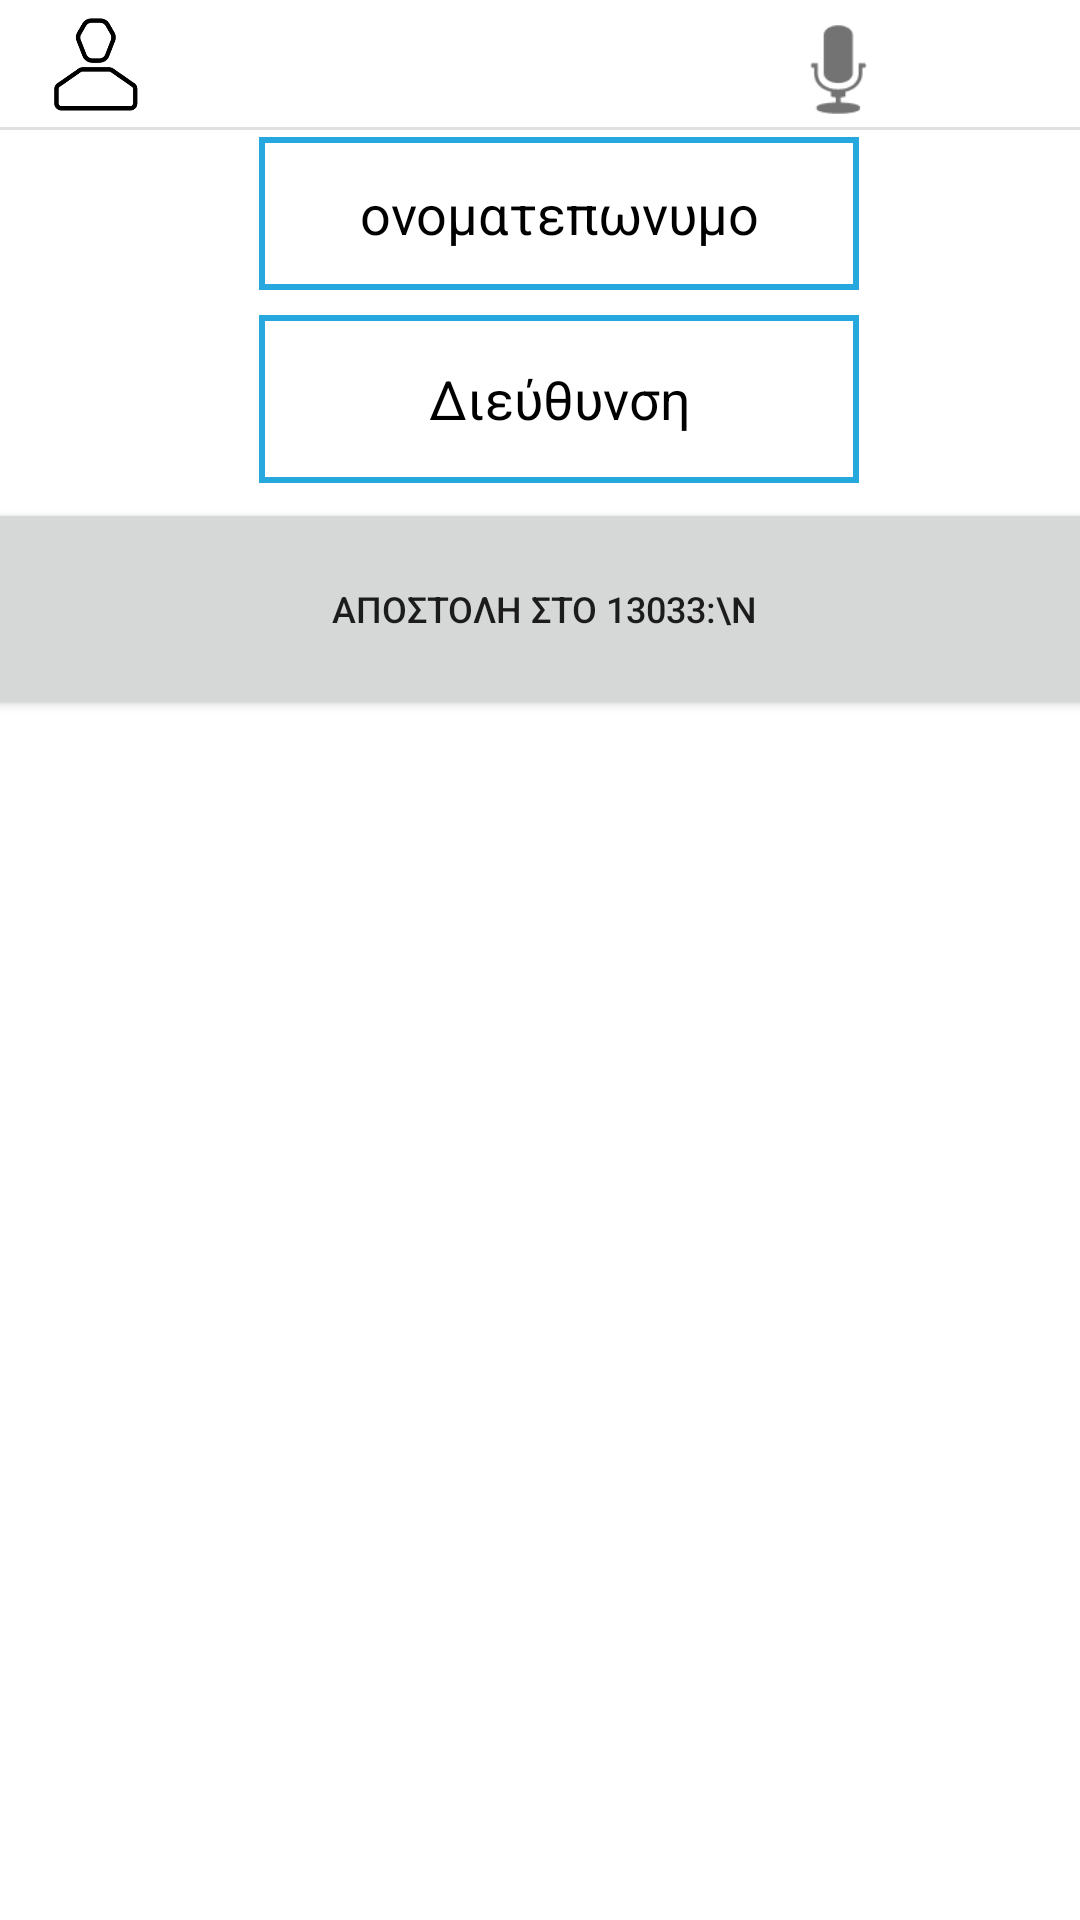

Icon bounding boxes for this 1080x1920 phone screenshot, format (x1, y1, x2, y2):
profileicon: (54, 18, 138, 111)
speak now: (810, 25, 867, 114)
